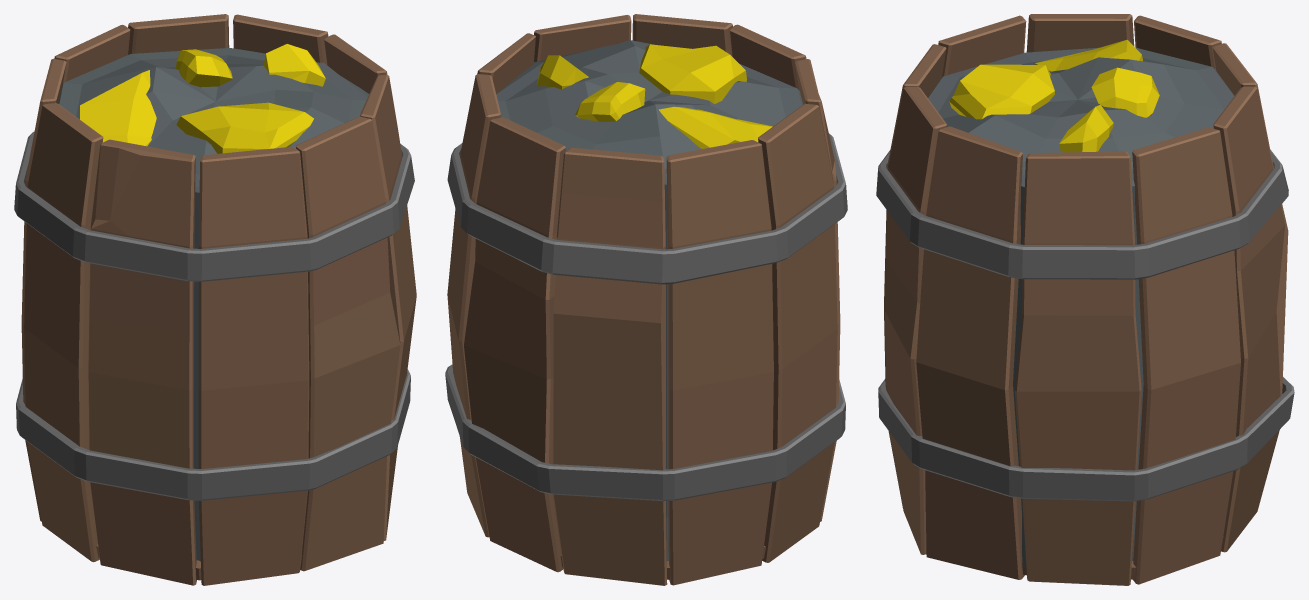
Rendered from Barrel3_Gold.fbx.
The picture shows the model from 3 angles, left to right: view 1: azimuth 30°, elevation 25°; view 2: azimuth 150°, elevation 25°; view 3: azimuth 270°, elevation 25°; orthographic projection.
Parts seen in each view (by area): view 1: Barrel3_Gold, Gold_Nuggets; view 2: Barrel3_Gold, Gold_Nuggets; view 3: Barrel3_Gold, Gold_Nuggets.
Boxes of the visible parts, <box> form: Barrel3_Gold: <box>14,14,416,585</box>; Gold_Nuggets: <box>80,44,325,153</box>; Barrel3_Gold: <box>445,14,847,585</box>; Gold_Nuggets: <box>536,44,772,148</box>; Barrel3_Gold: <box>876,14,1294,585</box>; Gold_Nuggets: <box>949,39,1159,152</box>.
Bounding box in the file's own units: 101 × 124 × 106.
